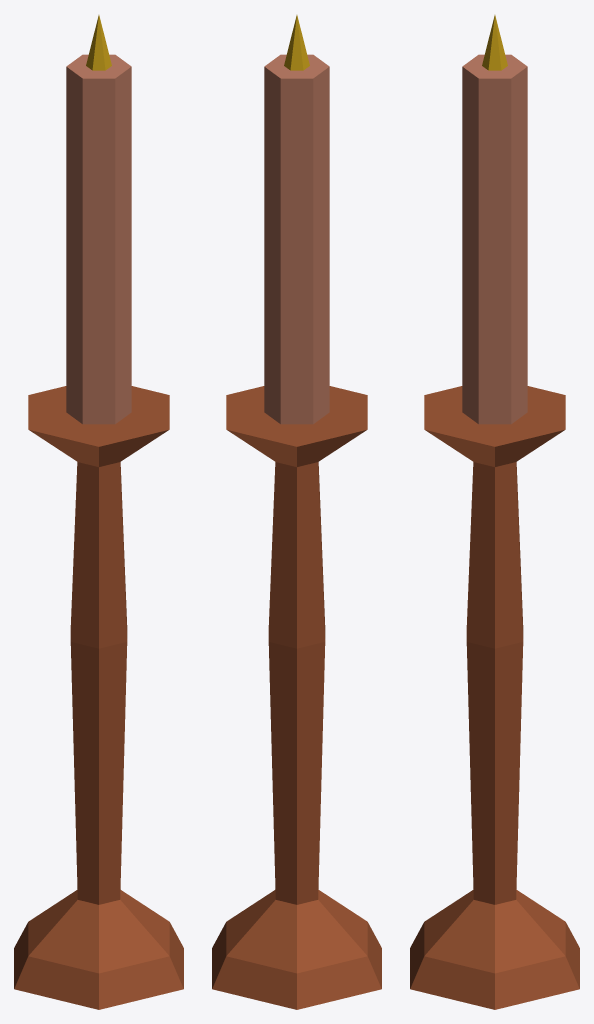
File: candle-holder-04.glb
The picture shows the model from 3 angles, left to right: view 1: azimuth 30°, elevation 25°; view 2: azimuth 150°, elevation 25°; view 3: azimuth 270°, elevation 25°; orthographic projection.
Visible parts, largest first — view 1: candle_holder_04; view 2: candle_holder_04; view 3: candle_holder_04.
Boxes of the visible parts, x1,y1,x2,y2 form: candle_holder_04: [14, 15, 183, 1009]; candle_holder_04: [212, 15, 381, 1009]; candle_holder_04: [410, 15, 579, 1009].
Bounding box in the file's own units: 0.12 × 0.6448 × 0.1039.
